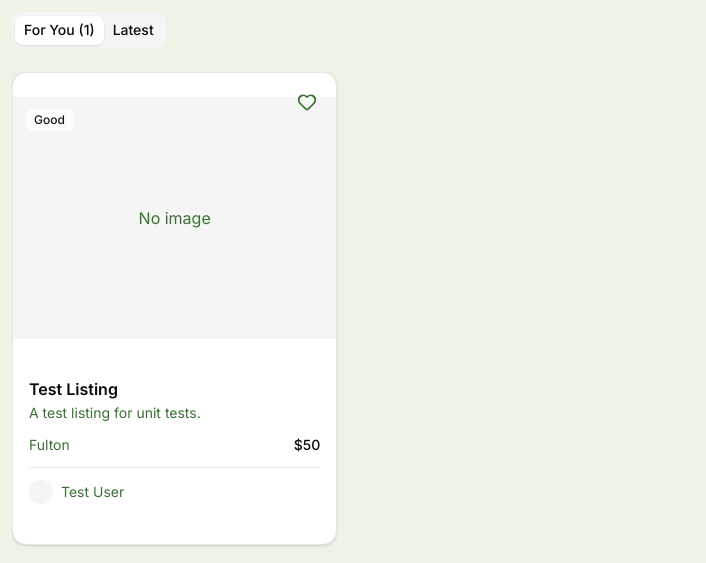
Test case: DiscoverFeedTabs › shows latest empty state
Click the tab "Latest": [133, 30] box [104,16,163,44]
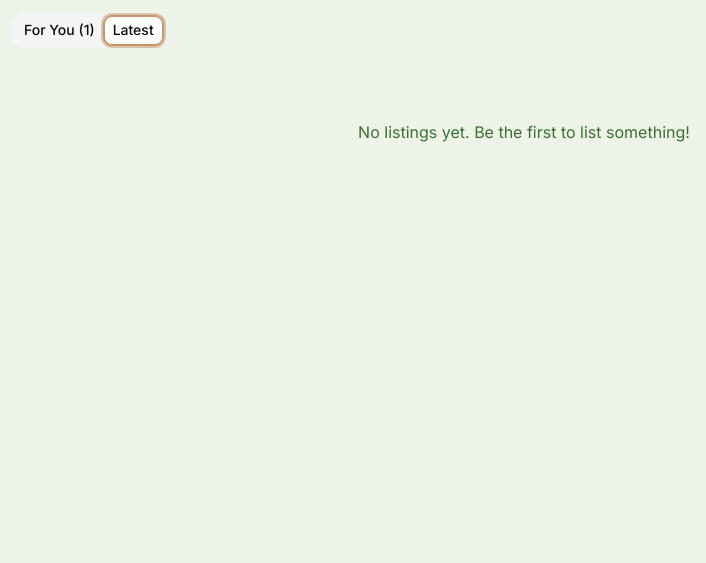
expect the text "No listings yet. Be the first to list something!" is shown: met, box [358,122,690,142]
